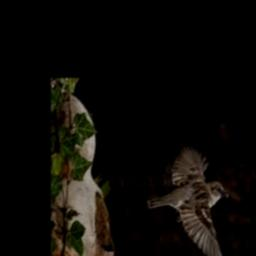Sparrow: (147, 145, 233, 256)
